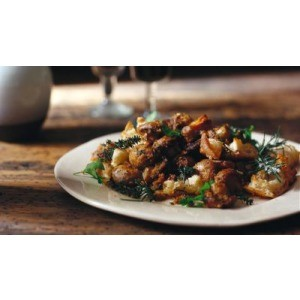mushroom_brain food: (131, 108, 259, 188)
